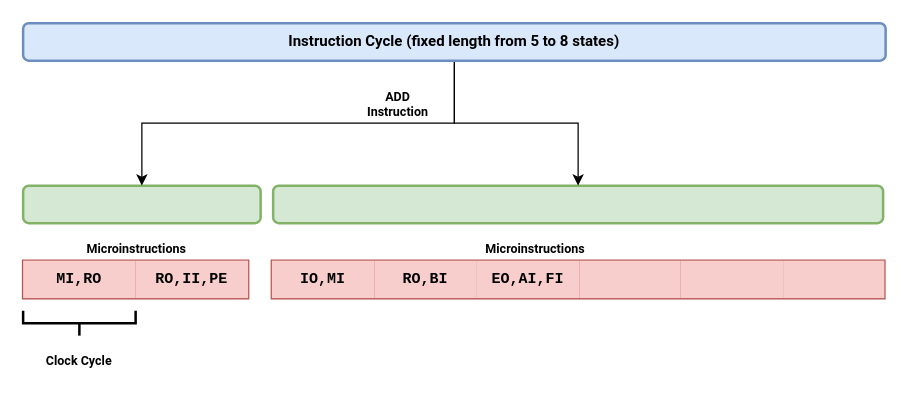
Image size: 908x400. Some labels were removed from this diagram. The centre of each missing label's shape, as x and y in pixels:
Execution Cycle: the point at 577,204
Fetch Cycle: the point at 141,204
